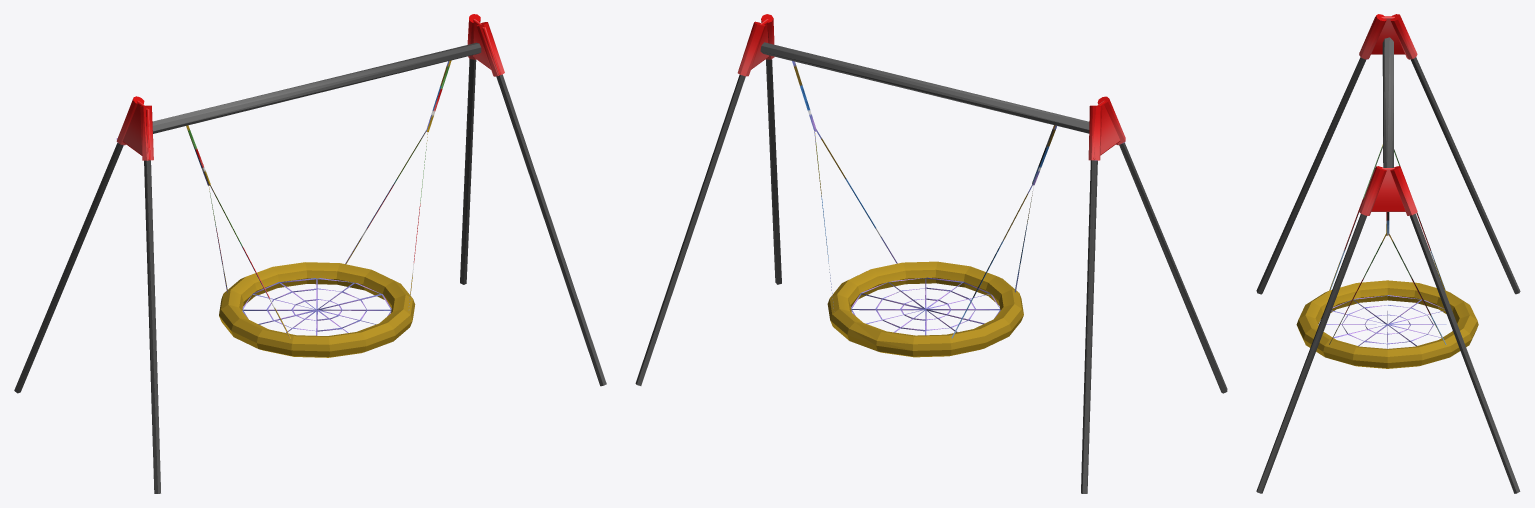
File: ETC0210008.fbx
3 renders of one model, left to right at view 1: azimuth 30°, elevation 25°; view 2: azimuth 150°, elevation 25°; view 3: azimuth 270°, elevation 25°, orthographic. The views are drawn at different scales.
Parts seen in each view (by area): view 1: smETC0210008; view 2: smETC0210008; view 3: smETC0210008.
Boxes of the visible parts, left/top/right/bottom form: smETC0210008: left=14, top=14, right=606, bottom=493; smETC0210008: left=635, top=14, right=1227, bottom=493; smETC0210008: left=1256, top=14, right=1520, bottom=493.
Bounding box in the file's own units: 403 × 281 × 222.
Materials: 1 (1 with a texture image).
